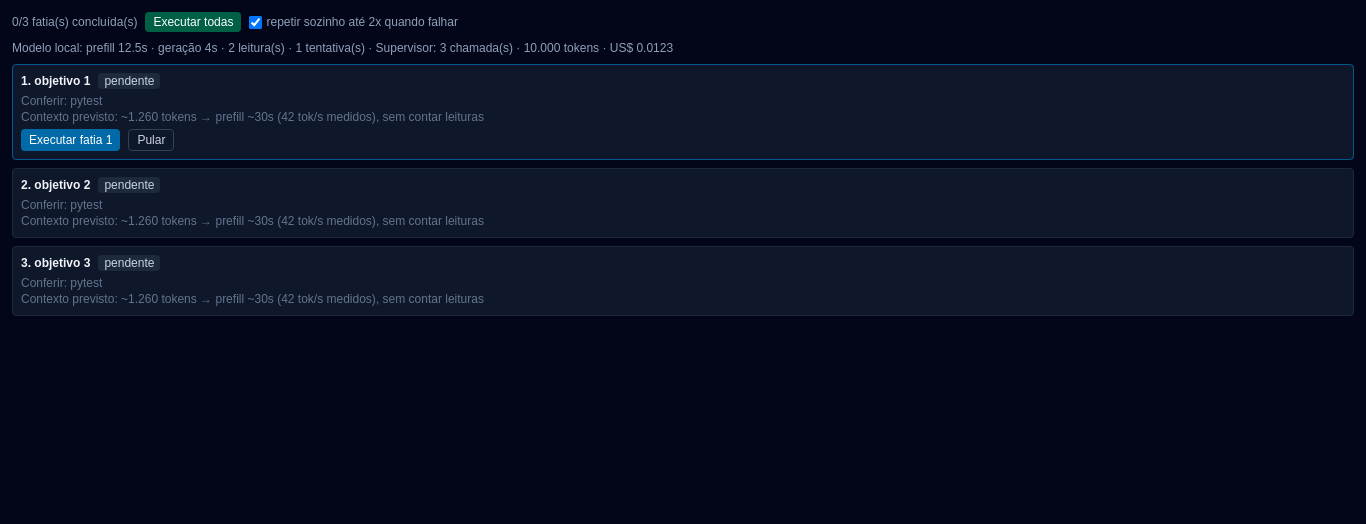
PainelExecucao · fatia de banco › mostra o prefill previsto antes de rodar, o medido depois e o gasto da sessão
Expected: the text "Contexto previsto: ~1.260 tokens → prefill ~30s (42 tok/s medidos)" below "objetivo 1" is shown, x1=21 y1=110 x2=484 y2=124
Click the button "Executar fatia 1".
click(71, 140)  # box x1=21 y1=129 x2=120 y2=151
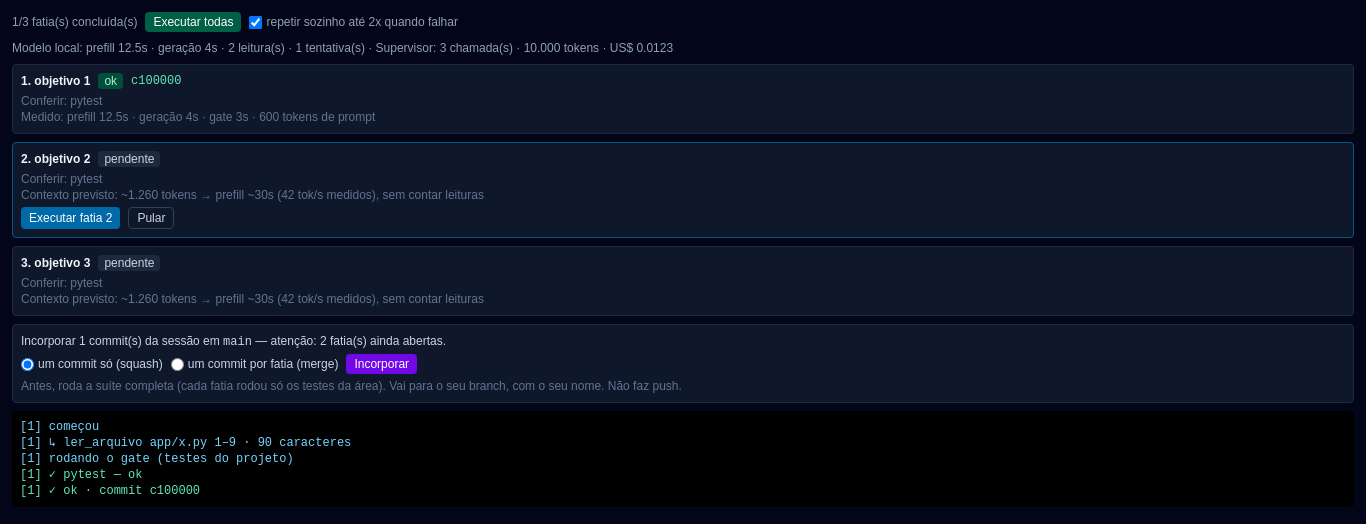
Expected: the text named "Gasto da sessão" shows "Supervisor: 3 chamada(s) · 10.000 tokens · US$ 0.0123", x1=12 y1=41 x2=673 y2=55
Result: the text "Medido: prefill 12.5s · geração 4s · gate 3s" is shown at x1=21 y1=110 x2=375 y2=124
